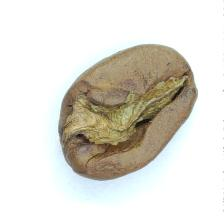NG: (62, 66, 185, 161)
